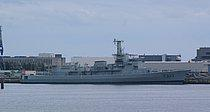MIL_Ship: (18, 39, 191, 83)
